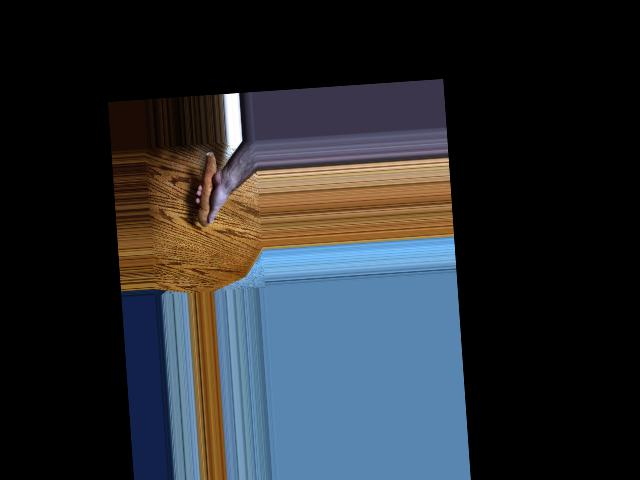sweet_potato: (192, 148, 223, 226)
